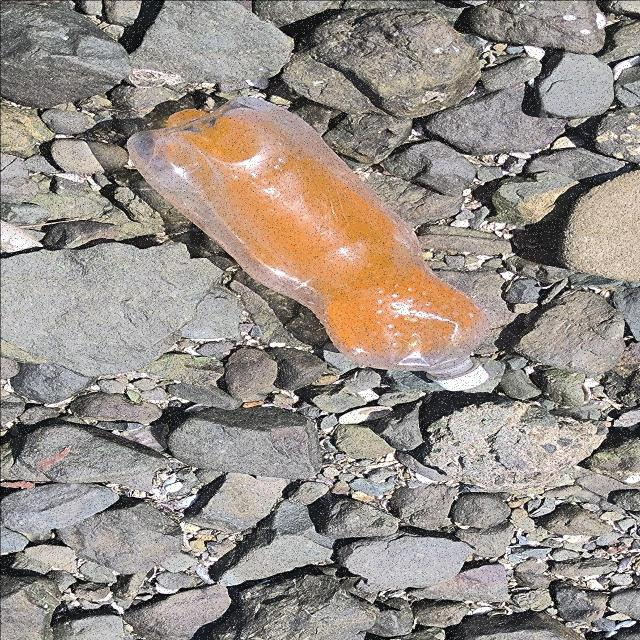plastic_waste: (126, 97, 488, 393)
